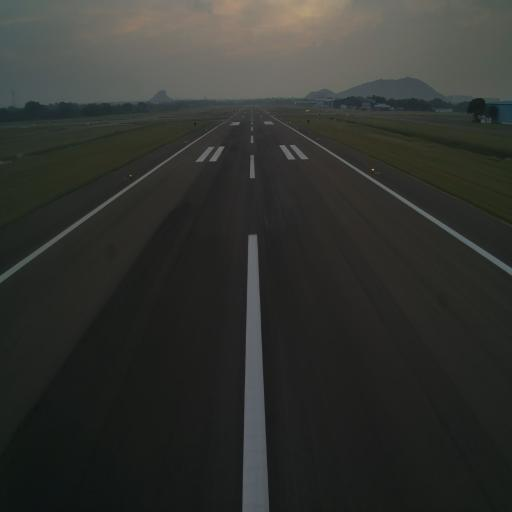on: (371, 166, 377, 175), (128, 171, 133, 179)
